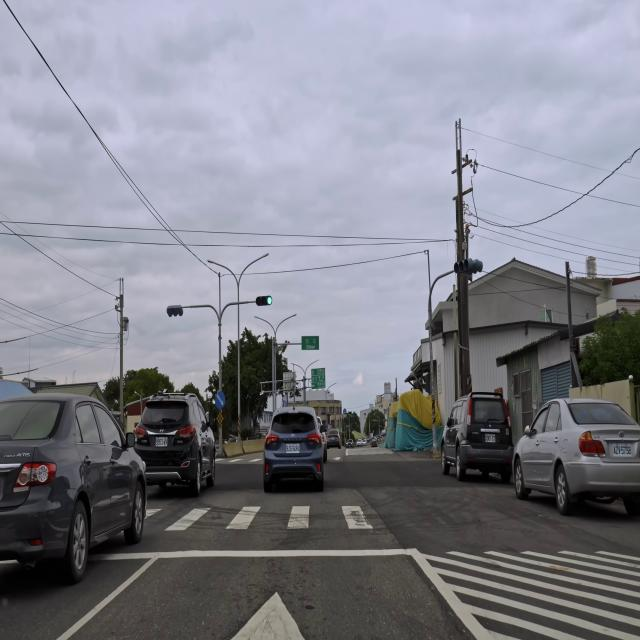green light: (255, 296, 272, 306)
